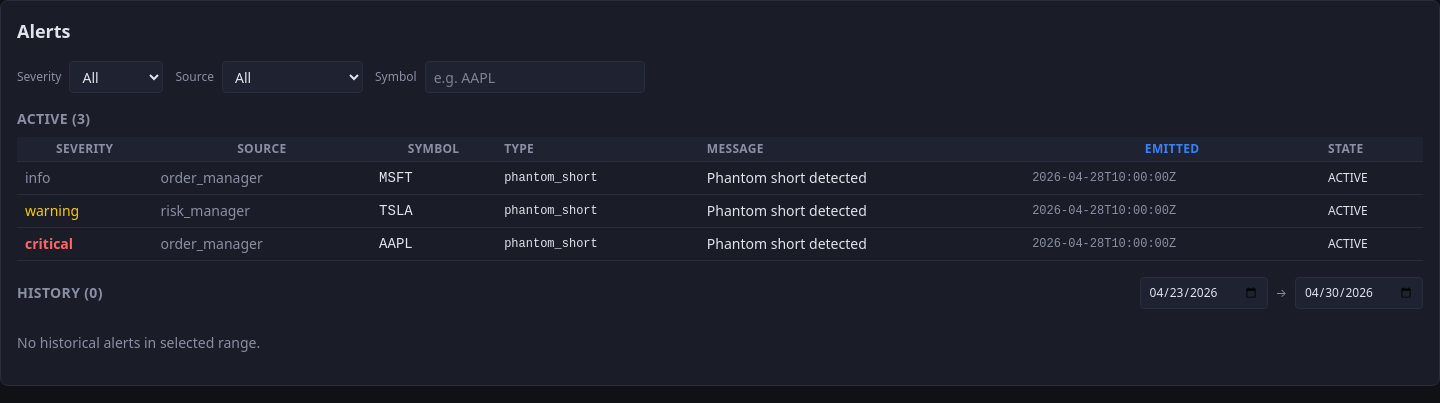
Test case: AlertsPanel › filters active alerts by severity / source / symbol
This screenshot has width=1440, height=403.
Select "Critical" in the dropdown with test id "filter-severity": (116, 77) top-left (70, 61), bottom-right (164, 93)
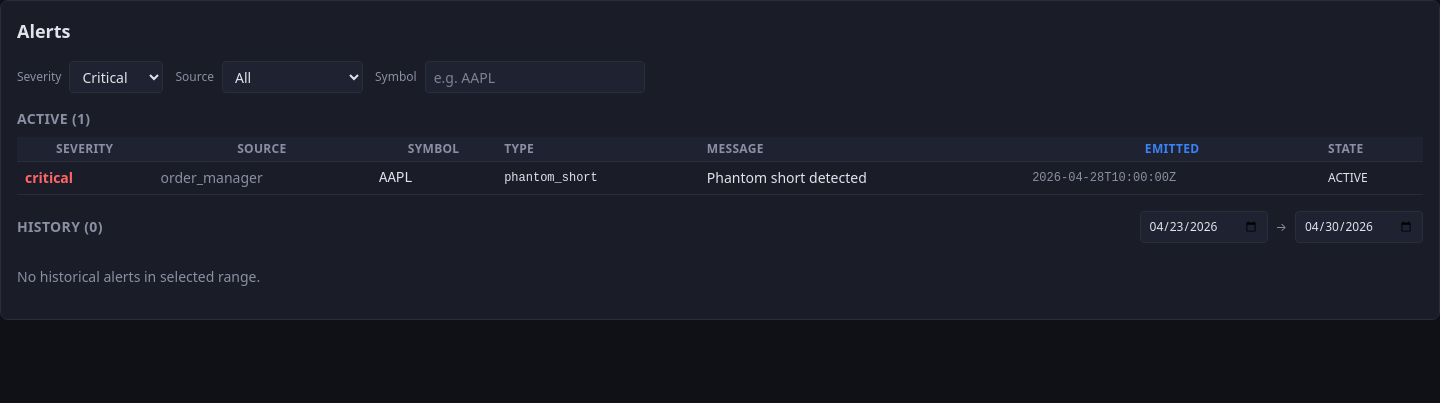
Expected: the button with test id "alerts-table-active-row-crit-aapl" is shown, top-left (17, 162), bottom-right (1423, 194)
Expected: the button with test id "alerts-table-active-row-warn-tsla" is gone
Expected: the button with test id "alerts-table-active-row-info-msft" is gone
Select "All" in the dropdown with test id "filter-severity": (116, 77) top-left (70, 61), bottom-right (164, 93)
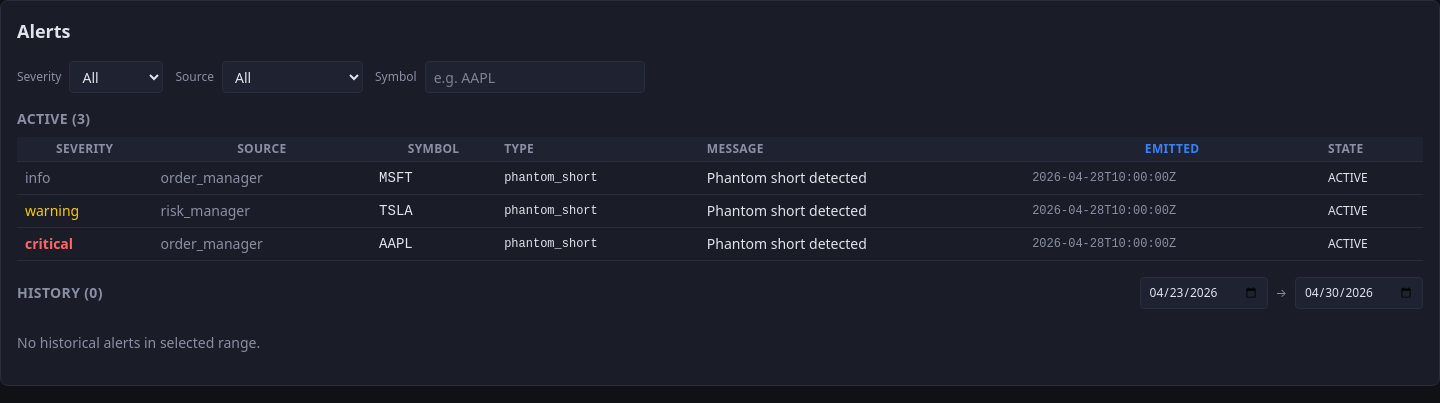
Select "risk_manager" in the dropdown with test id "filter-source": (292, 77) top-left (222, 61), bottom-right (363, 93)
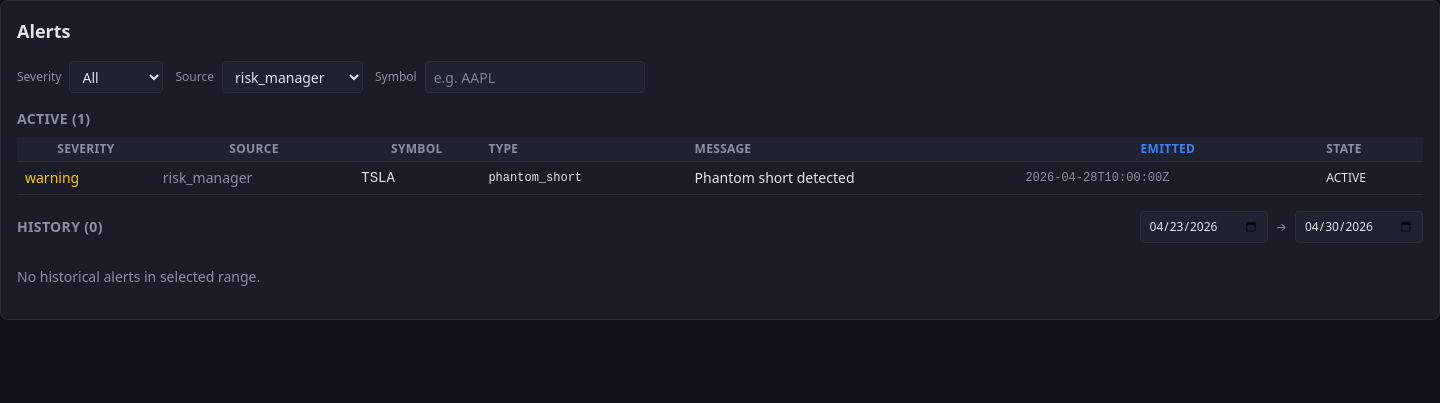
Expected: the button with test id "alerts-table-active-row-warn-tsla" is shown, top-left (17, 162), bottom-right (1423, 194)
Expected: the button with test id "alerts-table-active-row-crit-aapl" is gone
Expected: the button with test id "alerts-table-active-row-info-msft" is gone
Select "All" in the dropdown with test id "filter-source": (292, 77) top-left (222, 61), bottom-right (363, 93)
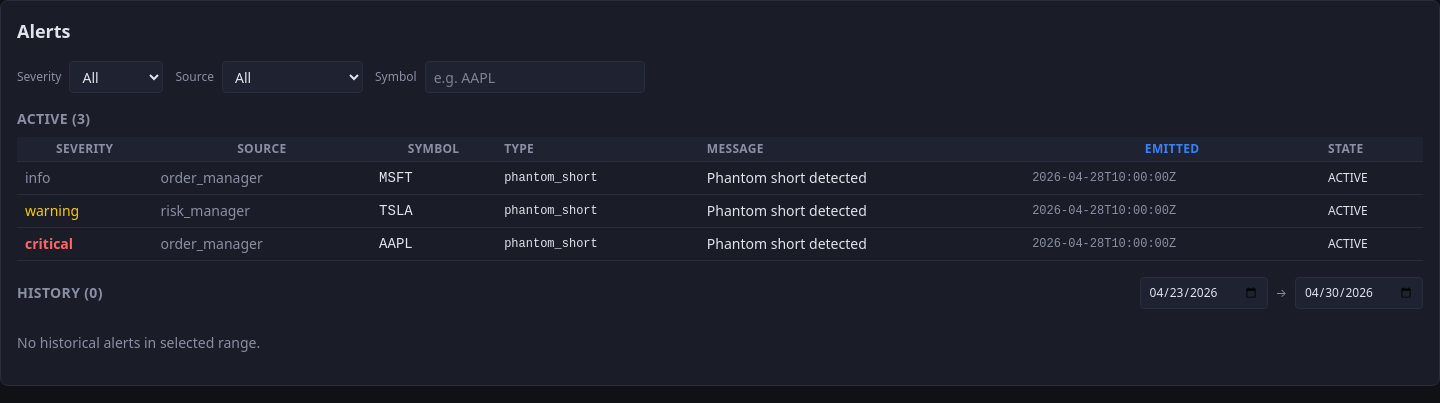
In the field with test id "filter-symbol": (535, 77) top-left (425, 61), bottom-right (645, 93), type "msft"
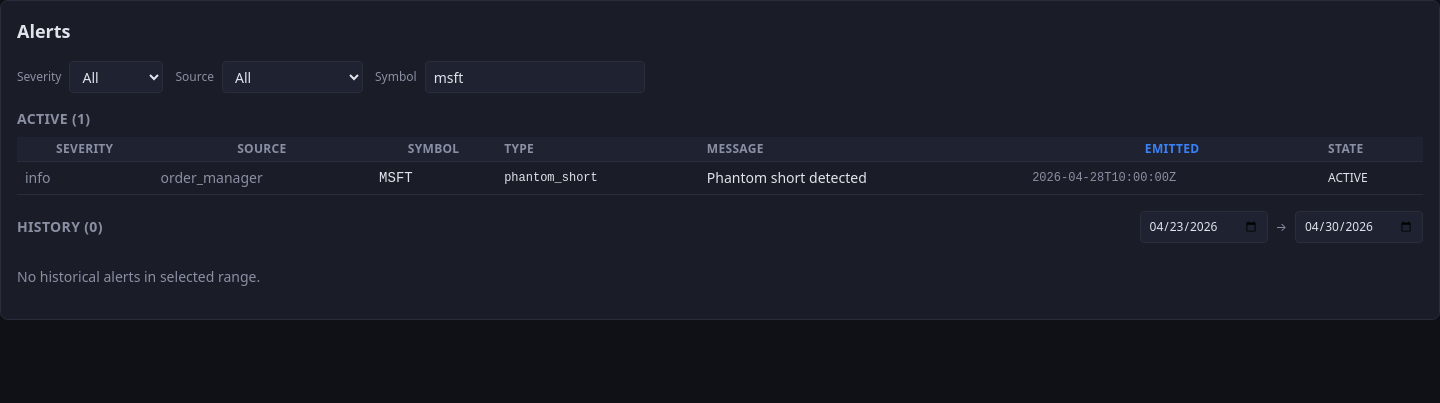
Expected: the button with test id "alerts-table-active-row-info-msft" is shown, top-left (17, 162), bottom-right (1423, 194)
Expected: the button with test id "alerts-table-active-row-crit-aapl" is gone
Expected: the button with test id "alerts-table-active-row-warn-tsla" is gone
